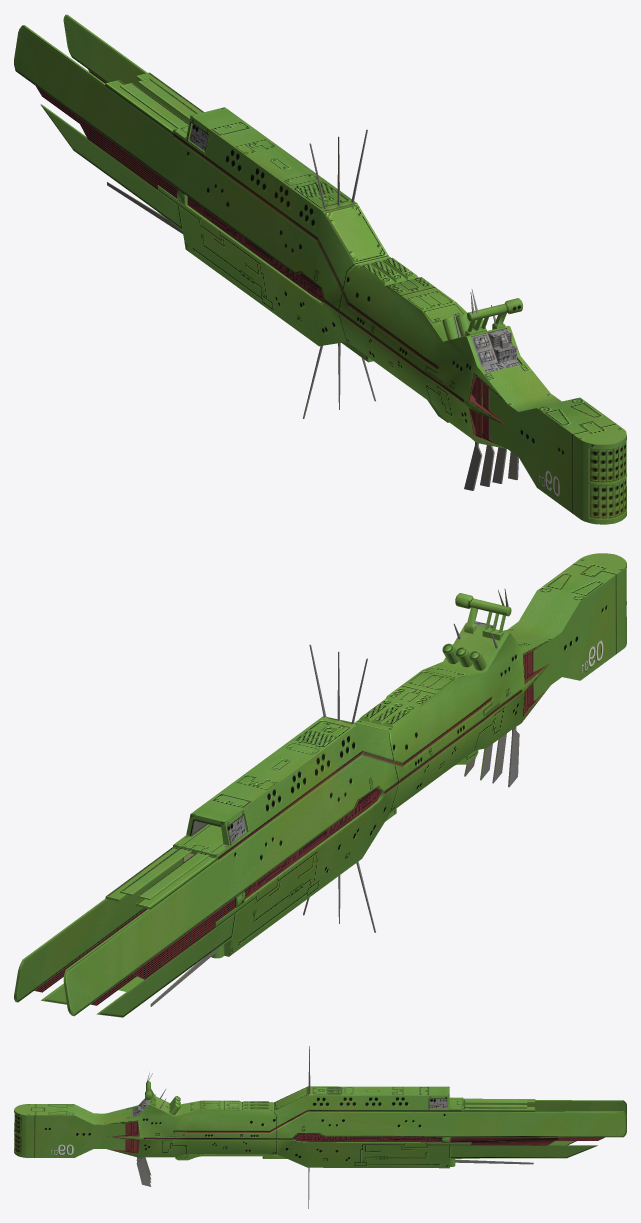
Rendered from FPA_CommandShip_Pergamon.obj.
The picture shows the model from 3 angles, top to bottom: view 1: azimuth 30°, elevation 25°; view 2: azimuth 150°, elevation 25°; view 3: azimuth 270°, elevation 25°; orthographic projection. The views are drawn at different scales.
Parts seen in each view (by area): view 1: FPA_CommandShip_Pergamon; view 2: FPA_CommandShip_Pergamon; view 3: FPA_CommandShip_Pergamon.
Boxes of the visible parts, box(x1,y1,x2,y2) form: FPA_CommandShip_Pergamon: box(14, 14, 626, 524); FPA_CommandShip_Pergamon: box(14, 553, 626, 1017); FPA_CommandShip_Pergamon: box(14, 1046, 626, 1208).
Size of the model in its own units: 68.1 by 243 by 927.
